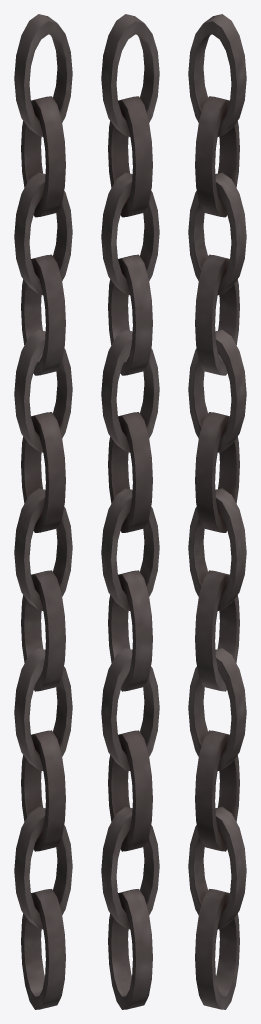
The model's file is SM_Chain.fbx.
3 renders of one model, left to right at view 1: azimuth 30°, elevation 25°; view 2: azimuth 210°, elevation 25°; view 3: azimuth 330°, elevation 25°, orthographic.
Parts seen in each view (by area): view 1: SM_Chain_LOD0; view 2: SM_Chain_LOD0; view 3: SM_Chain_LOD0.
Boxes of the visible parts, box(x1,y1,x2,y2) form: SM_Chain_LOD0: box(14, 14, 72, 1009); SM_Chain_LOD0: box(101, 14, 159, 1009); SM_Chain_LOD0: box(188, 14, 246, 1009).
Size of the model in its own units: 5.55 by 5.55 by 108.
